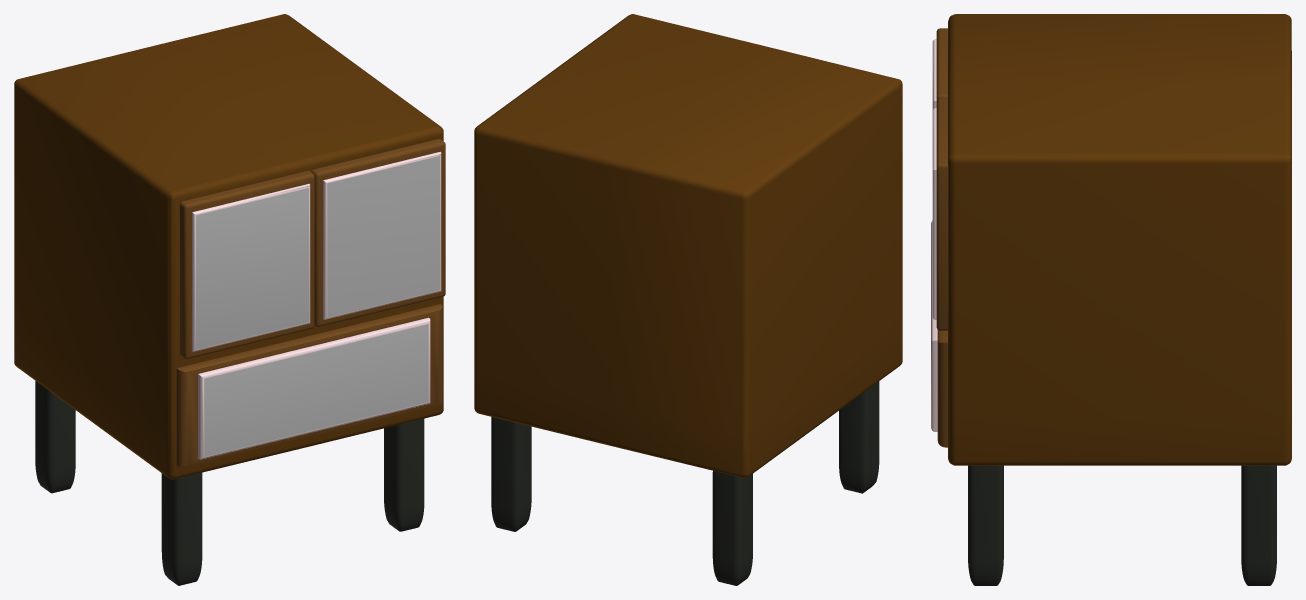
The model's file is Chest.fbx.
The picture shows the model from 3 angles, left to right: view 1: azimuth 30°, elevation 25°; view 2: azimuth 150°, elevation 25°; view 3: azimuth 270°, elevation 25°; orthographic projection. The views are drawn at different scales.
Visible parts, largest first — view 1: chest; view 2: chest; view 3: chest.
Part boxes in pixels (left/top/right/bottom): chest: left=14, top=14, right=445, bottom=585; chest: left=474, top=14, right=902, bottom=585; chest: left=931, top=14, right=1291, bottom=585.
Bounding box in the file's own units: 64.09 × 90.02 × 67.26.
Materials: 1 (1 with a texture image).
